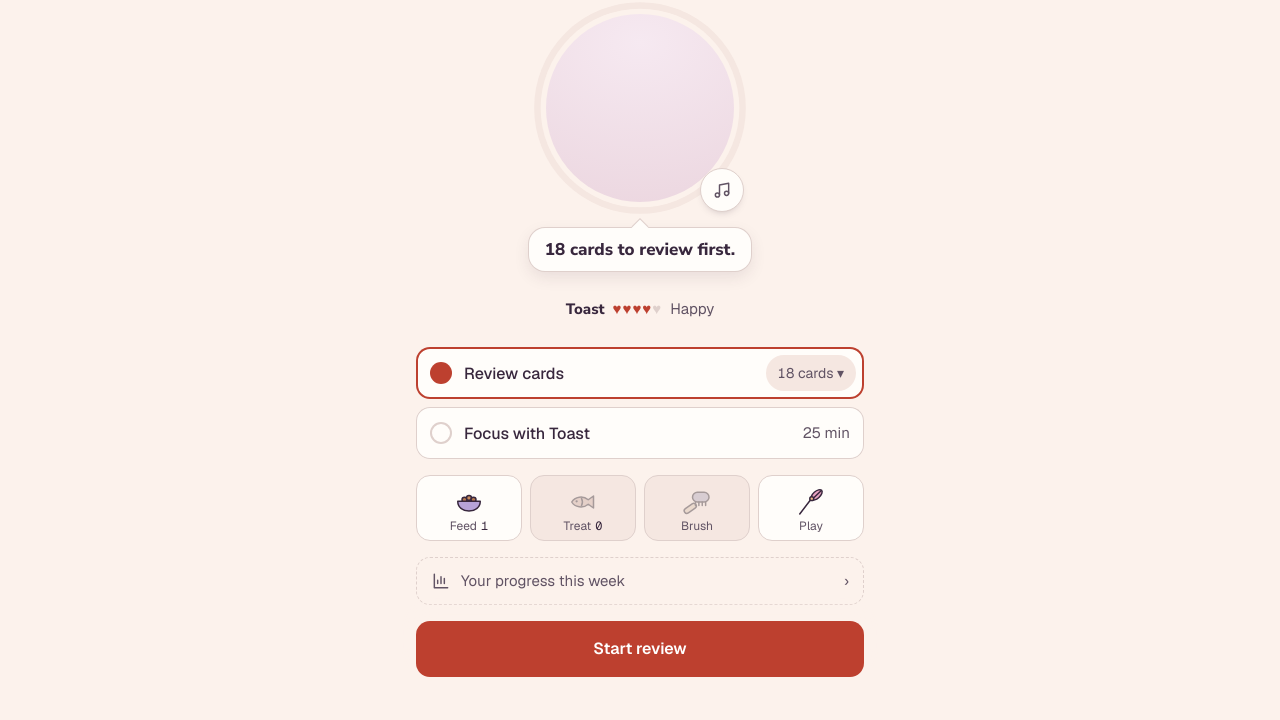
Test: TodayView › opens her sheet from her name, and closes it with Escape
Click the button "Toast ♥♥♥♥♥ Happy".
click(640, 309)  # box [554,287,726,331]
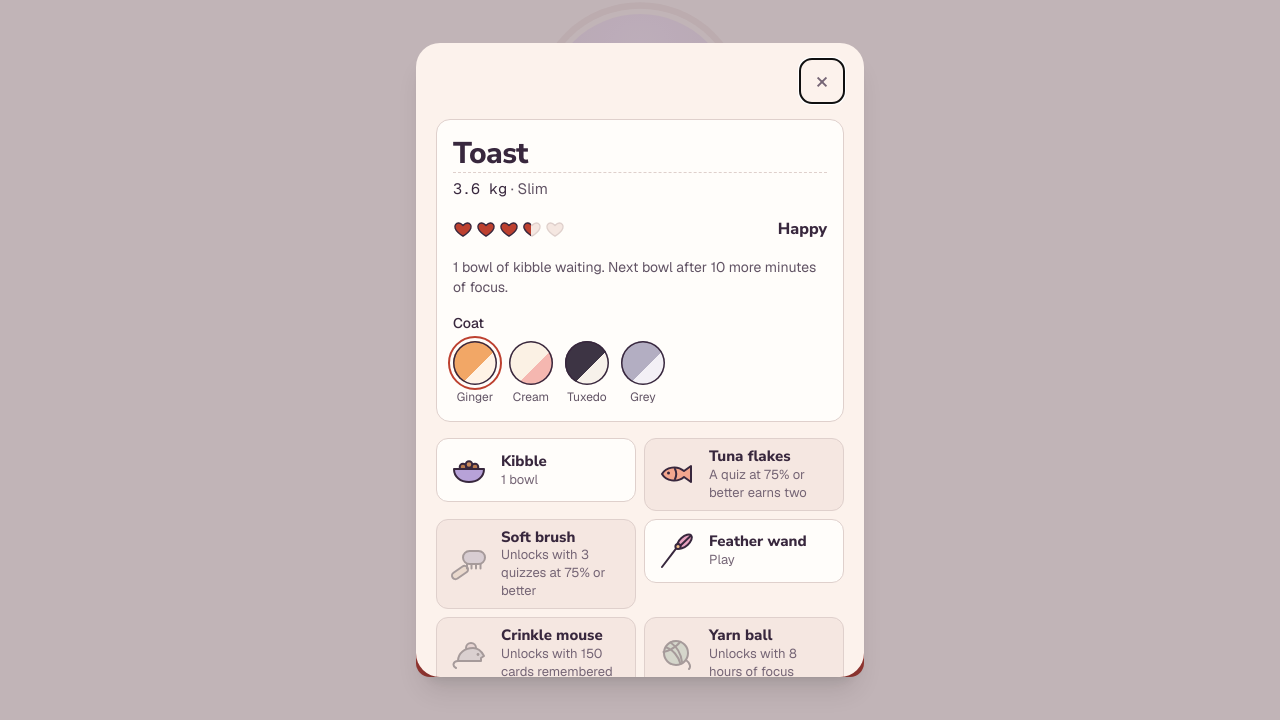
Expected: the field named "Your cat's name" holds "Toast", [453,136,827,173]
Expected: the list named "Care for Toast" is shown, [436,438,844,677]
Press Escape
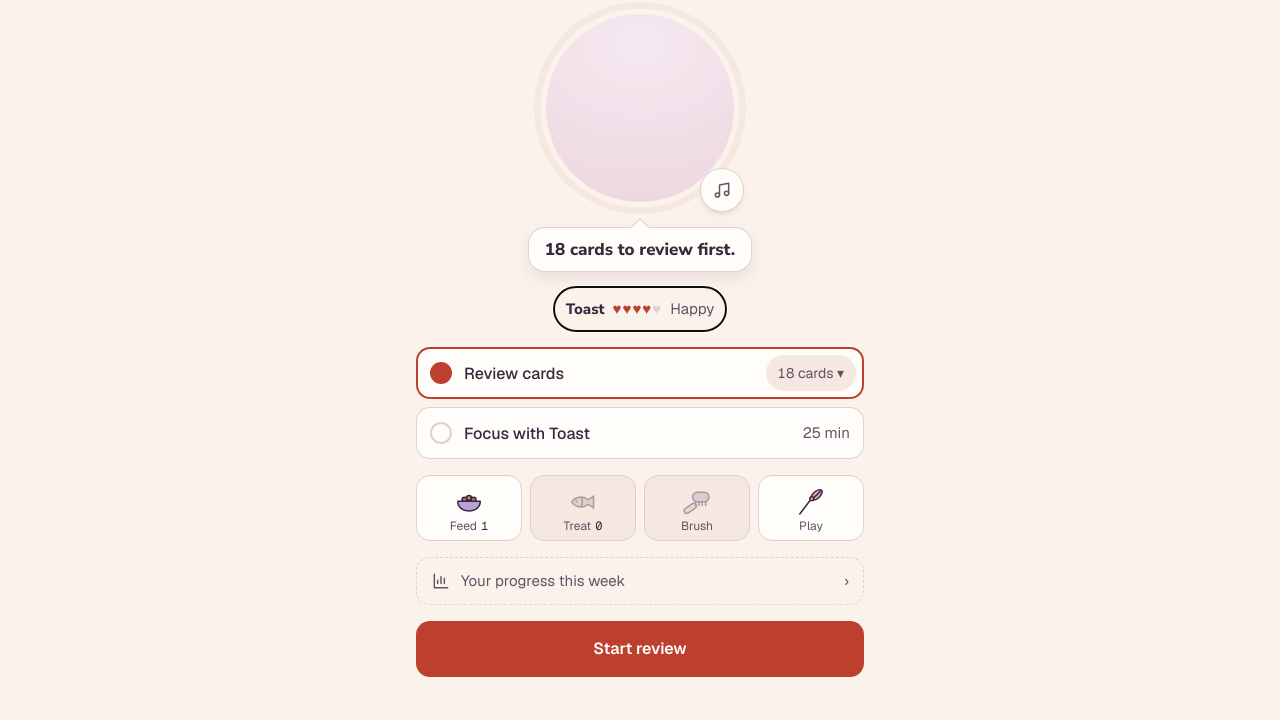
Expected: the dialog is gone
